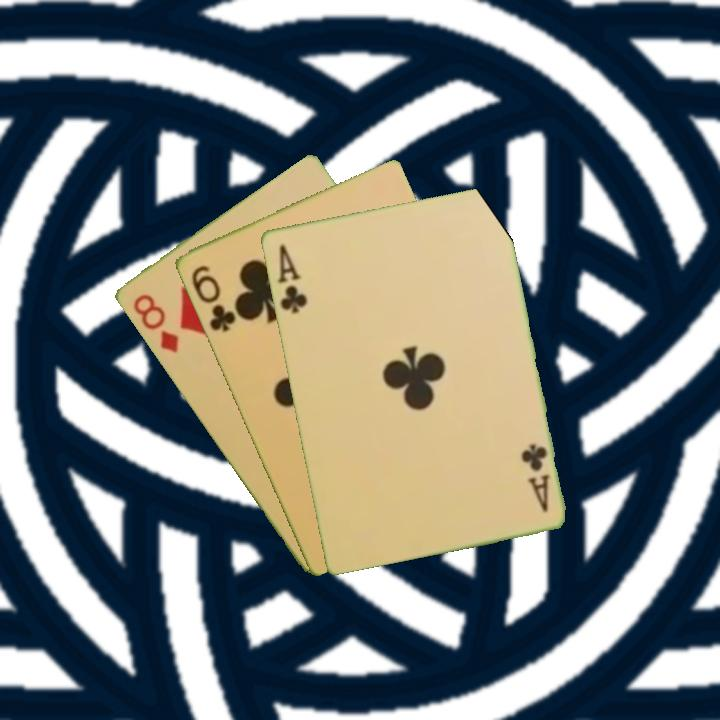6c: (187, 261, 238, 335)
8d: (129, 290, 181, 356)
Ac: (273, 240, 310, 316), (517, 440, 552, 515)
